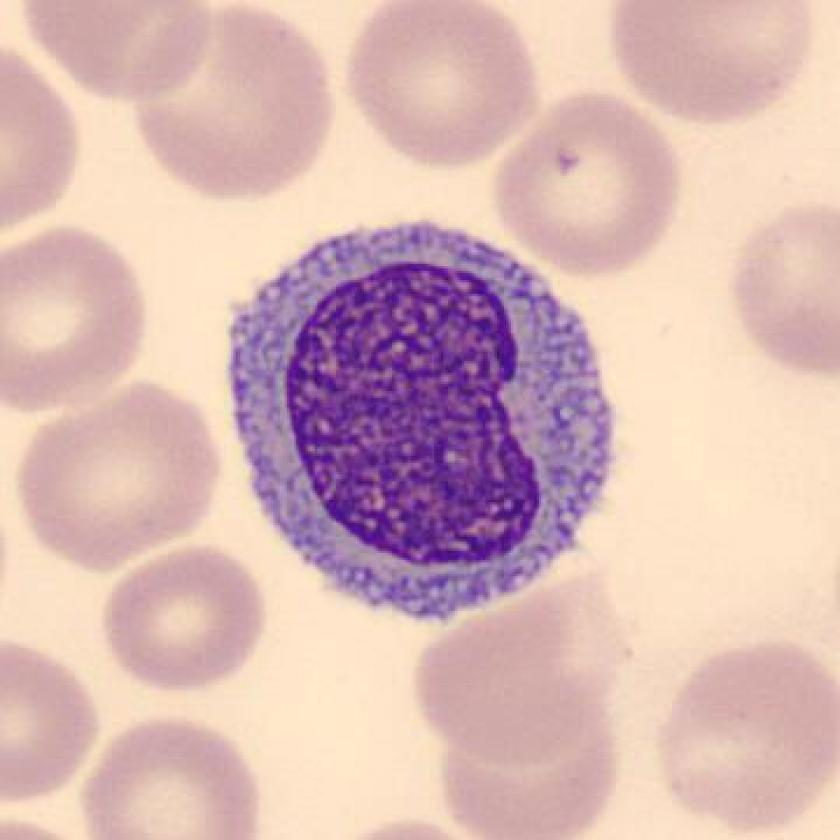monocyte: (211, 205, 636, 640)
